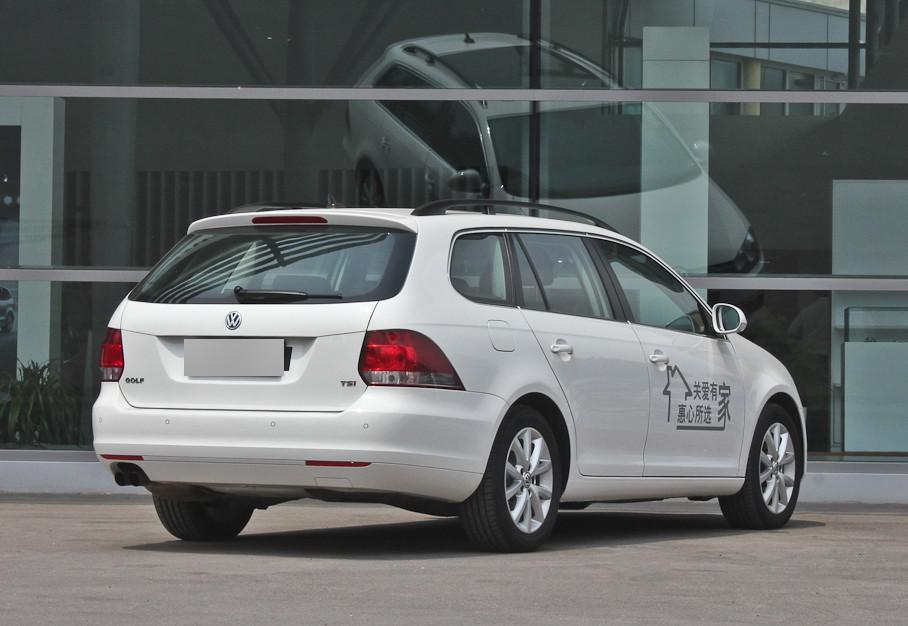Wagon: (88, 198, 810, 554)
